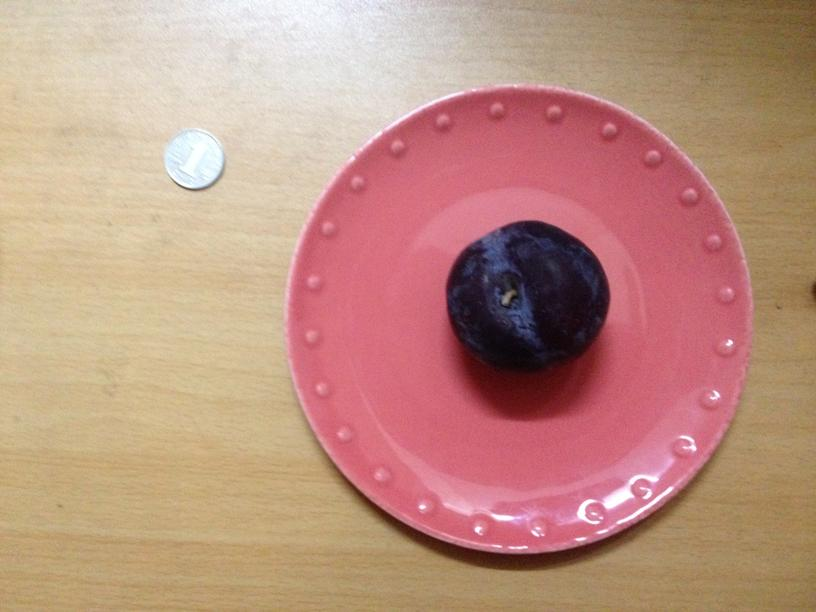coin: (164, 128, 224, 188)
plum: (451, 219, 608, 375)
